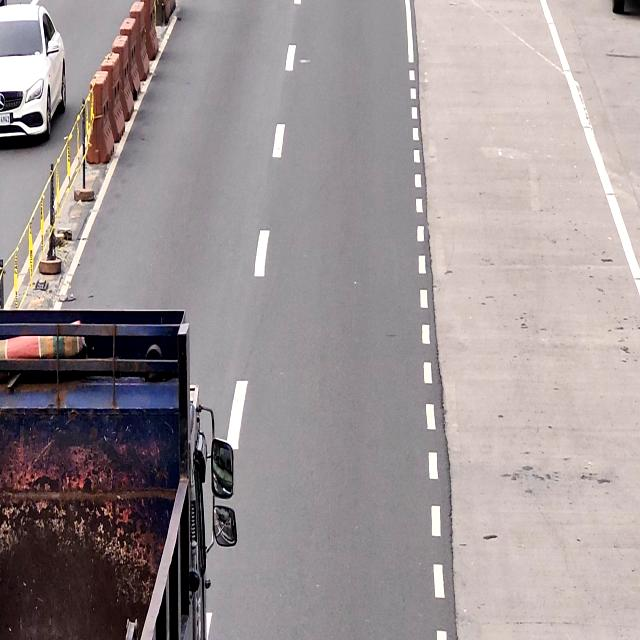Truck: (0, 309, 212, 640)
